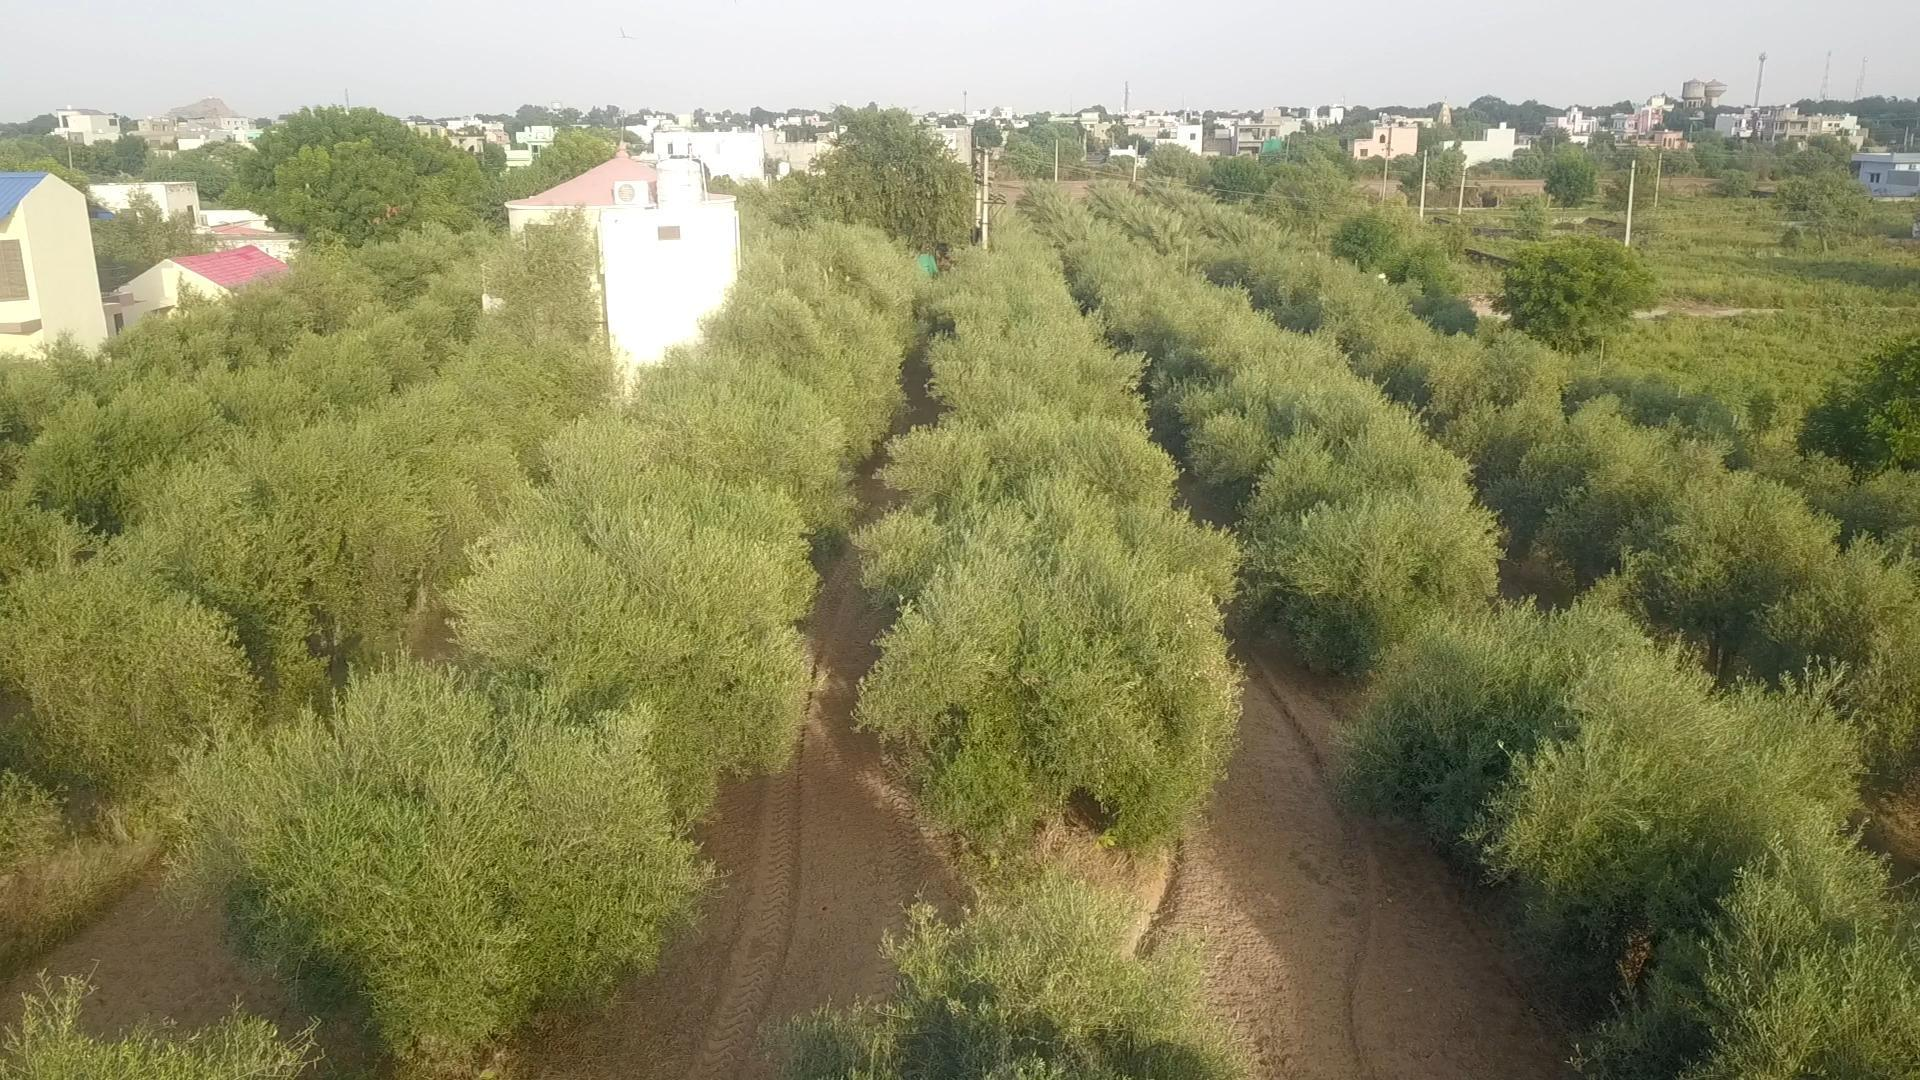canopy: (1052, 204, 1919, 1079), (181, 225, 915, 1059), (1172, 203, 1919, 767), (0, 224, 615, 802), (855, 237, 1240, 855)
road: (521, 550, 961, 1079), (1156, 650, 1572, 1079), (30, 880, 291, 1033)
